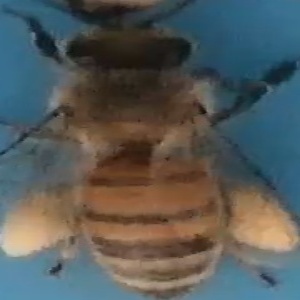bee: (10, 22, 298, 297)
